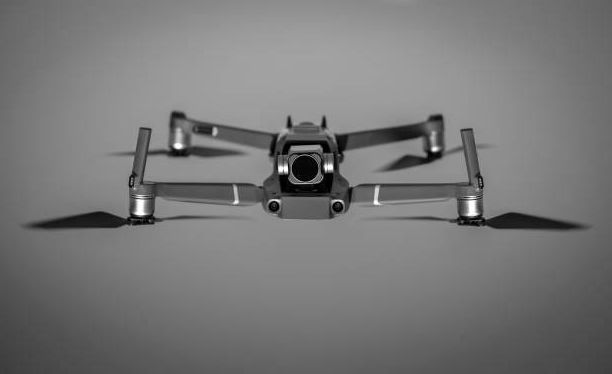Drone: (15, 108, 595, 241)
